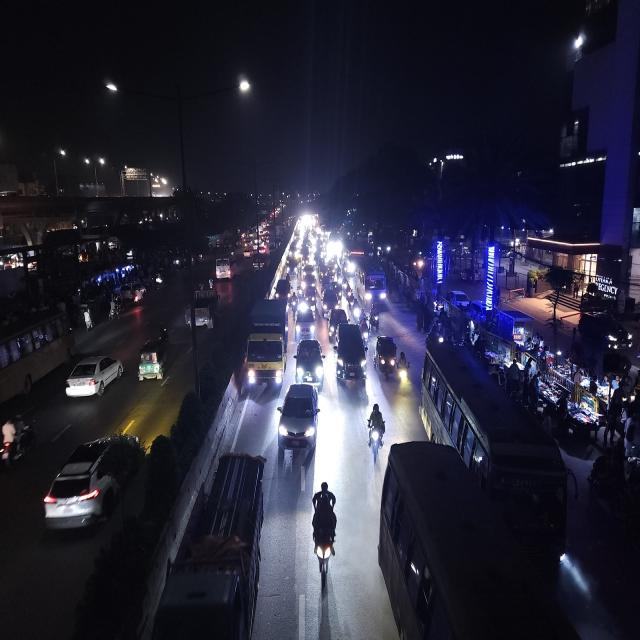bus: (381, 355, 601, 639), (0, 309, 76, 408), (356, 258, 388, 309), (215, 250, 235, 282)
car: (39, 424, 148, 538), (64, 350, 126, 404), (277, 380, 321, 456), (335, 319, 367, 388), (295, 336, 326, 389), (375, 331, 398, 382), (294, 301, 316, 341), (328, 306, 344, 346), (321, 284, 339, 318), (274, 276, 292, 299), (252, 255, 264, 272)
cng: (136, 334, 170, 387), (285, 256, 300, 282), (305, 285, 318, 315), (368, 306, 380, 333)
motorcycle: (309, 477, 340, 583), (0, 414, 37, 472), (366, 399, 386, 462), (397, 347, 409, 389), (348, 291, 359, 324), (360, 311, 370, 342)
pickup_van: (146, 447, 266, 640), (185, 286, 219, 332)
truck: (244, 296, 290, 392)
